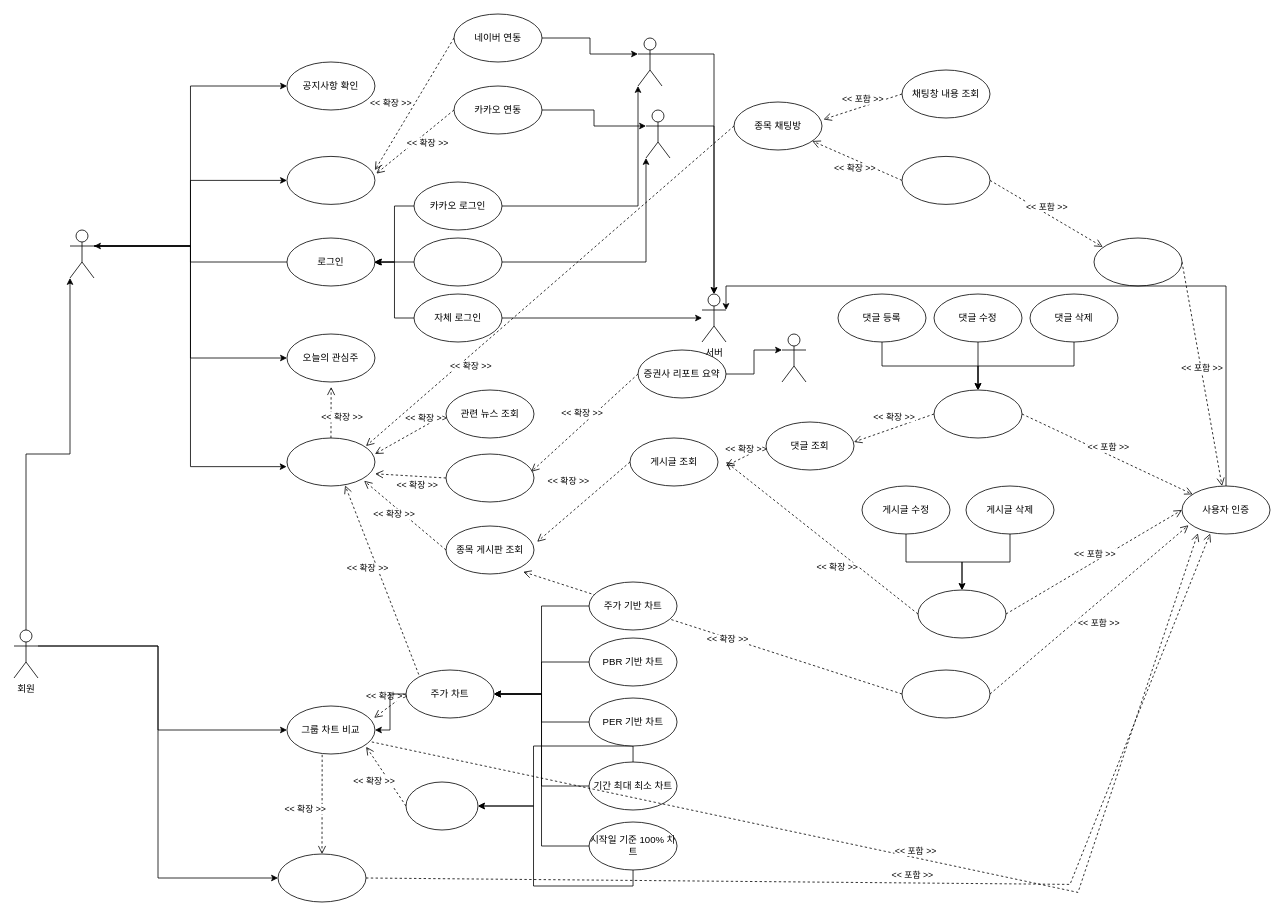
Some shapes in this 1284 by 916 pixel diagram are drawn without their labels. Each missing label, with the box of its shape:
게시글 관리: (917, 589, 1006, 638)
게시글 등록: (901, 669, 990, 718)
관심 그룹 조회: (277, 853, 366, 902)
네이버: (637, 37, 662, 86)
네이버 로그인: (413, 237, 502, 286)
댓글 관리: (933, 389, 1022, 438)
비회원: (69, 229, 94, 278)
오픈AI: (781, 333, 806, 382)
주식 검색: (286, 437, 375, 486)
증권사 리포트 조회: (445, 453, 534, 502)
채팅 인가: (1093, 237, 1182, 286)
채팅 입력: (901, 156, 990, 204)
카카오: (645, 109, 670, 158)
통계성 차트: (405, 781, 478, 830)
회원가입: (286, 156, 375, 204)
